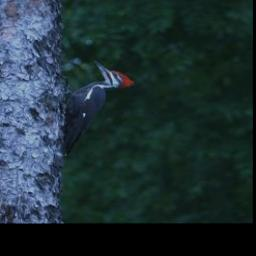Woodpecker: (58, 57, 133, 160)
